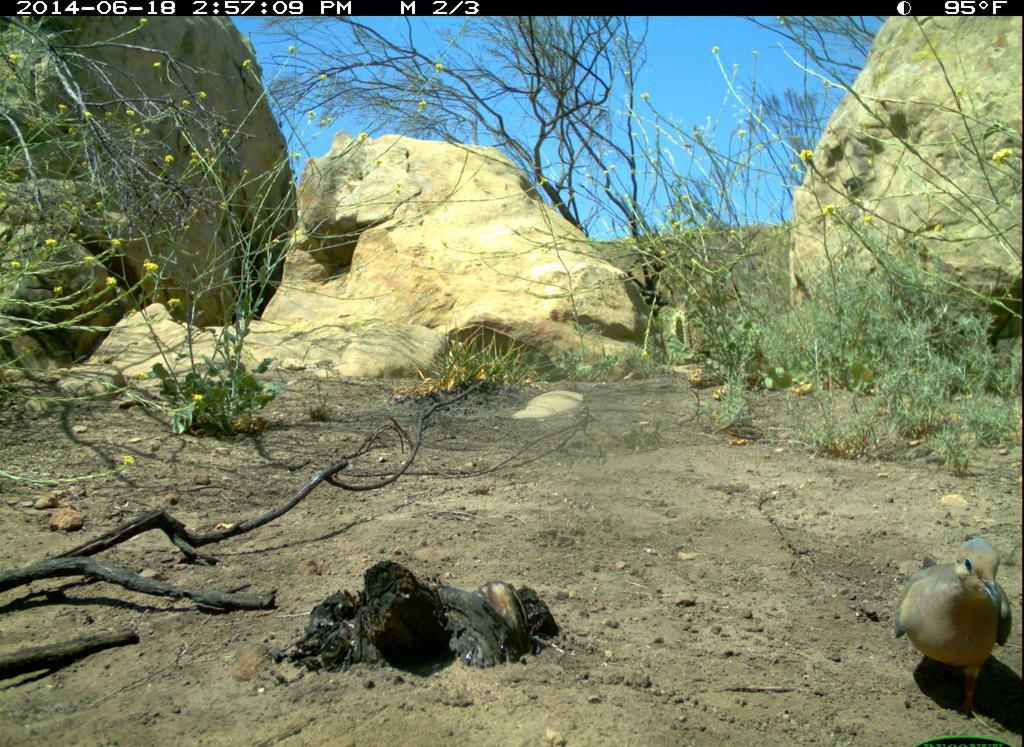bird: (893, 538, 1016, 716)
